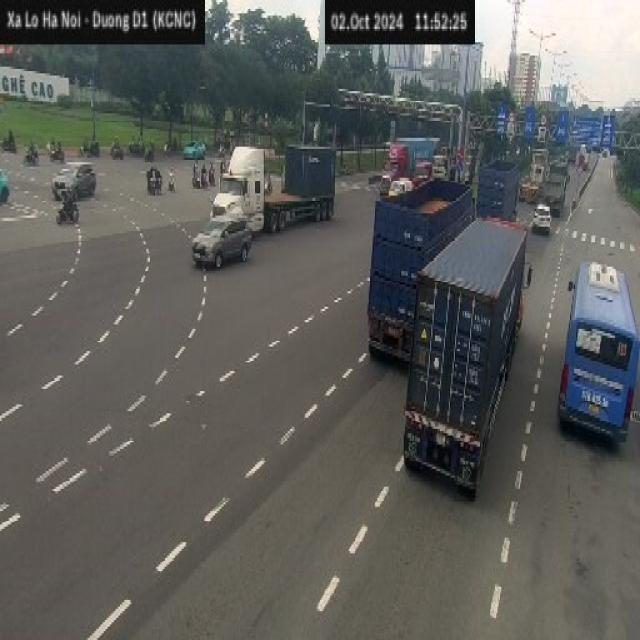bus: (558, 258, 638, 444)
car: (191, 213, 254, 271)
container-truck: (402, 213, 532, 498), (366, 176, 474, 364), (207, 141, 341, 234)
